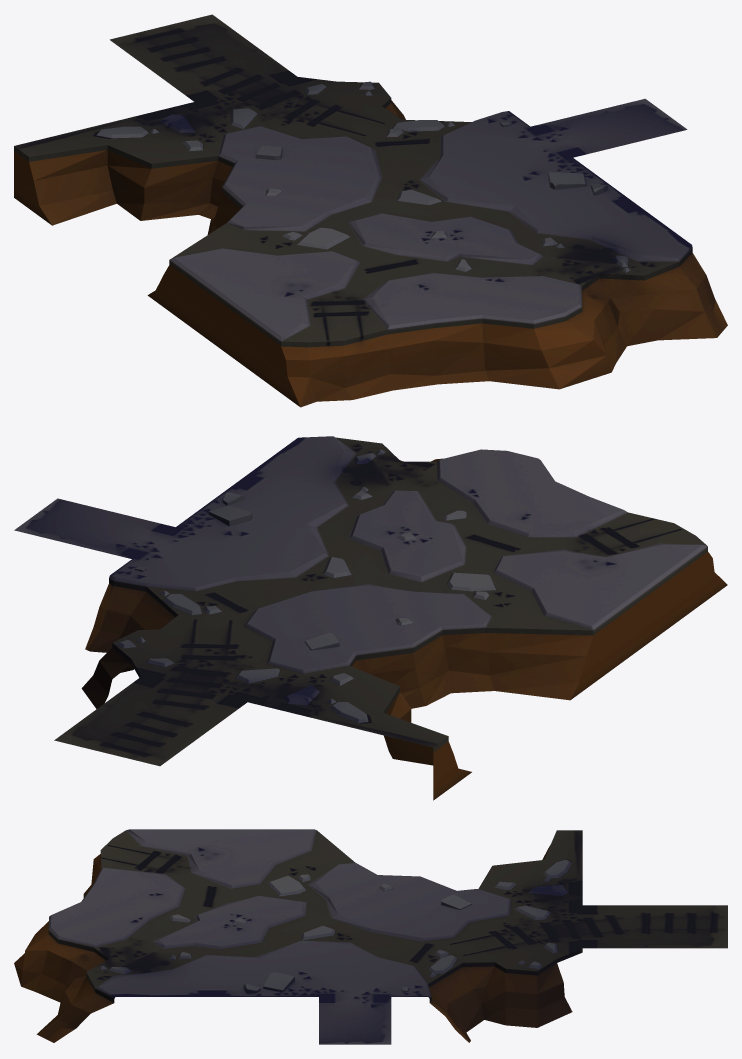
The model's file is Ground_01.FBX.
The picture shows the model from 3 angles, top to bottom: view 1: azimuth 30°, elevation 25°; view 2: azimuth 150°, elevation 25°; view 3: azimuth 270°, elevation 25°; orthographic projection. The views are drawn at different scales.
Visible parts, largest first — view 1: Ground_01; view 2: Ground_01; view 3: Ground_01.
Part boxes in pixels (x1,y1,x2,y2): Ground_01: (14,14,727,407); Ground_01: (14,436,727,800); Ground_01: (14,829,727,1044).
Bounding box in the file's own units: 22.14 × 2.42 × 30.85.
